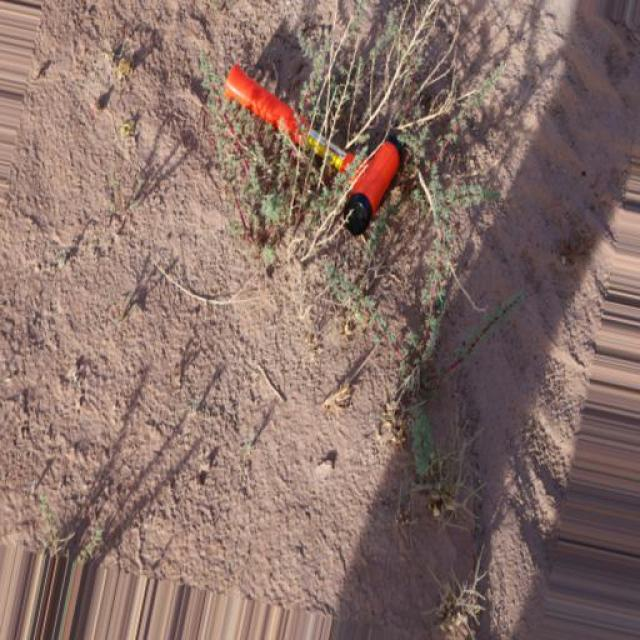mallet: (222, 61, 408, 235)
